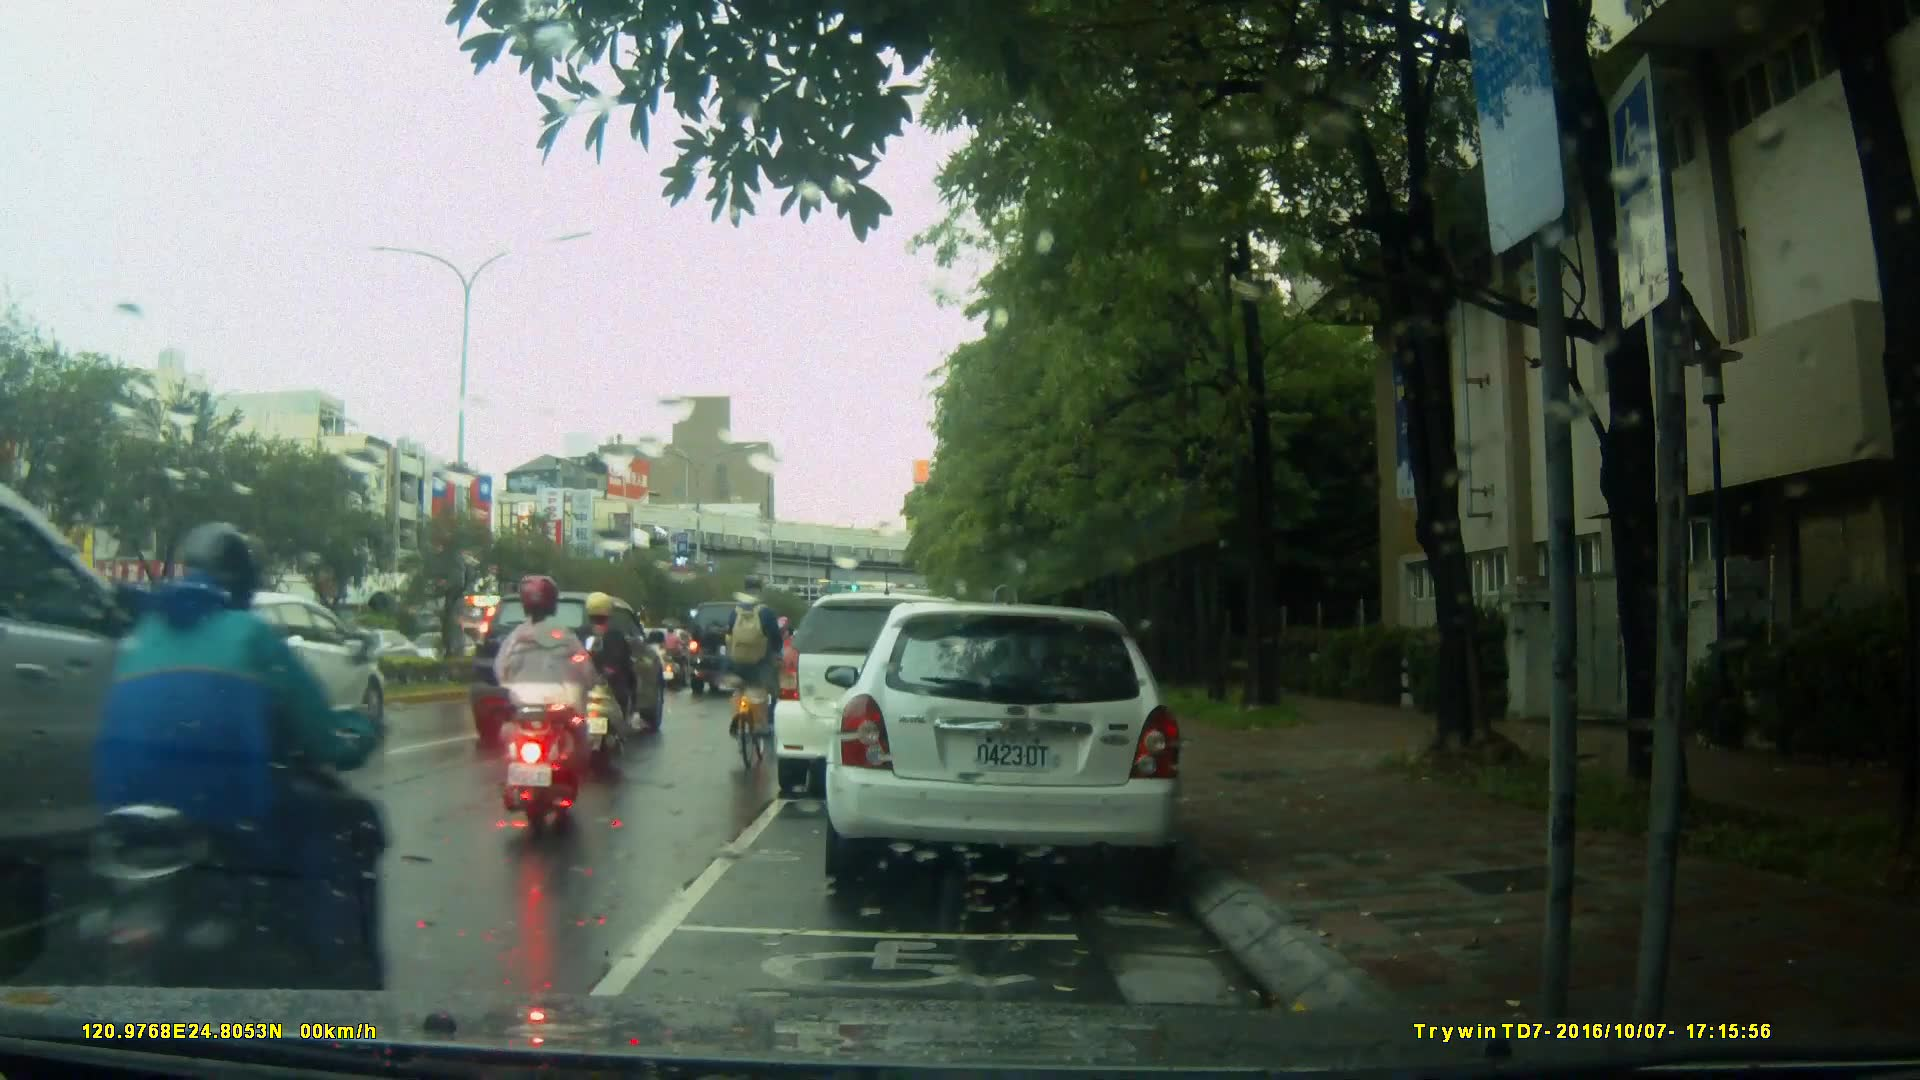rider: (59, 523, 365, 1070), (491, 575, 606, 830), (722, 579, 785, 772), (571, 589, 635, 768), (658, 618, 689, 692)
vehicle: (1, 482, 306, 991), (822, 604, 1188, 883), (774, 595, 995, 802), (461, 591, 668, 755)
